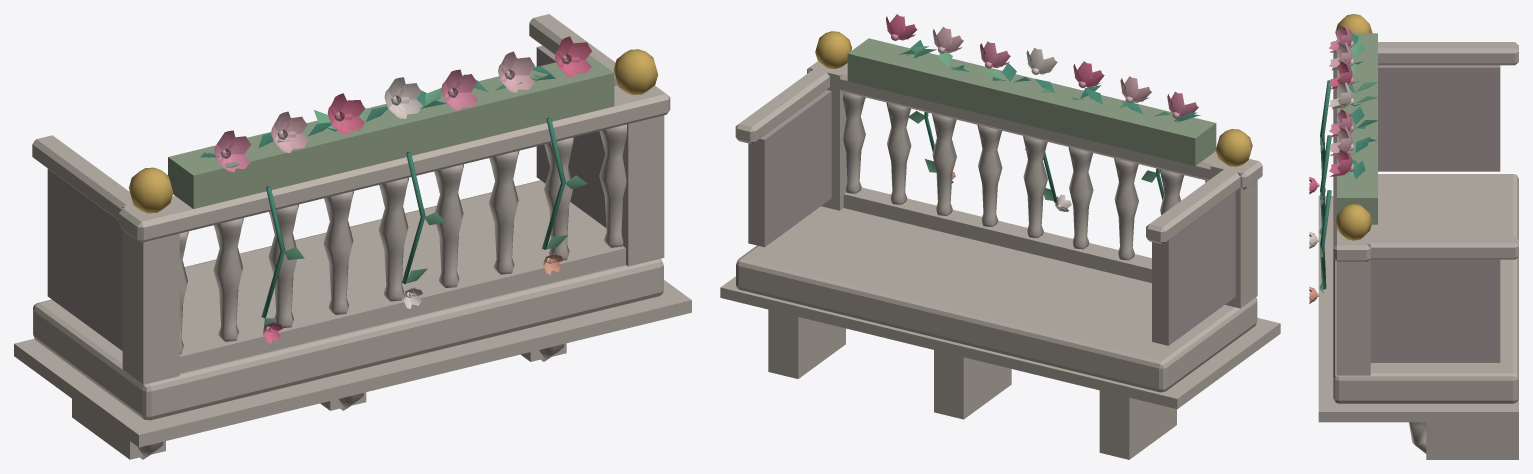
The model's file is facade_balcony.glb.
The picture shows the model from 3 angles, left to right: view 1: azimuth 30°, elevation 25°; view 2: azimuth 150°, elevation 25°; view 3: azimuth 270°, elevation 25°; orthographic projection. The views are drawn at different scales.
Visible parts, largest first — view 1: facade_balcony; view 2: facade_balcony; view 3: facade_balcony.
Part boxes in pixels (<box>): facade_balcony: <box>14,14,691,459</box>; facade_balcony: <box>720,14,1280,459</box>; facade_balcony: <box>1309,14,1518,459</box>.
Size of what is drawn, in the model's own units: 2.76 by 1.77 by 1.13.
